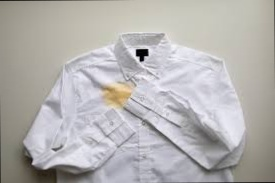coffee: (106, 84, 129, 103)
